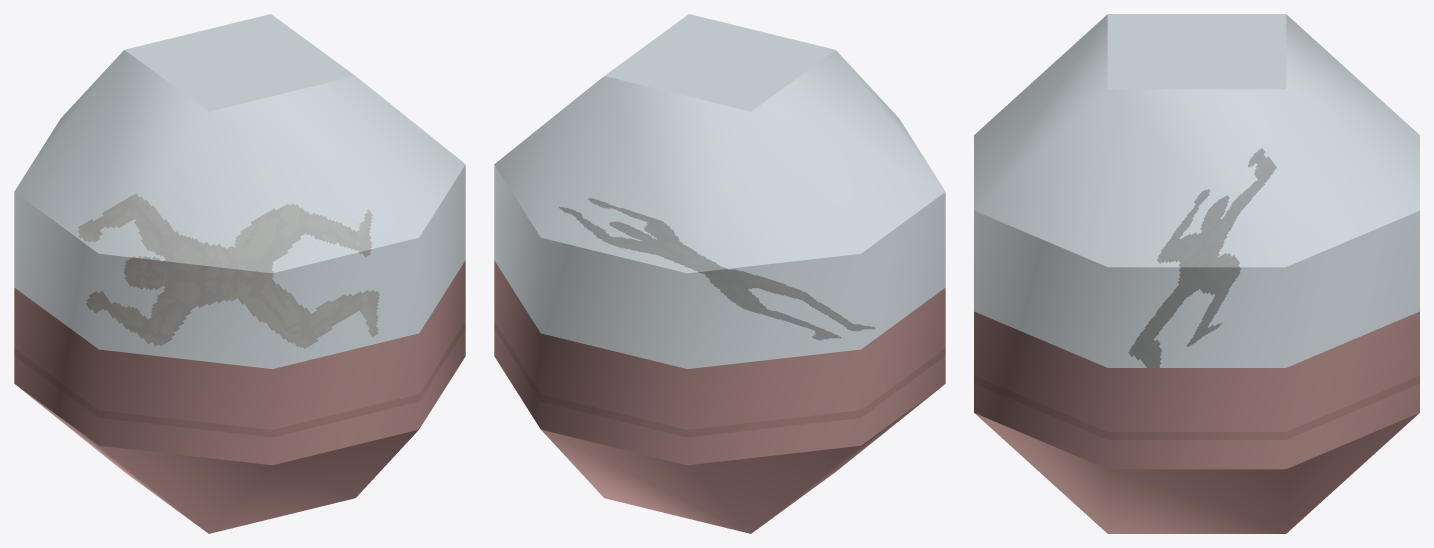
The model's file is 0321_Toy_Capsule.glb.
3 views of the same model, side by side, from view 1: azimuth 30°, elevation 25°; view 2: azimuth 150°, elevation 25°; view 3: azimuth 270°, elevation 25° (orthographic). The views are drawn at different scales.
Parts seen in each view (by area): view 1: part_0; view 2: part_0; view 3: part_0.
Boxes of the visible parts, x1,y1,x2,y2 form: part_0: [14, 14, 465, 533]; part_0: [494, 14, 945, 533]; part_0: [974, 14, 1419, 533].
Bounding box in the file's own units: 0.05 × 0.055 × 0.05.
Materials: 1 (1 with a texture image).
